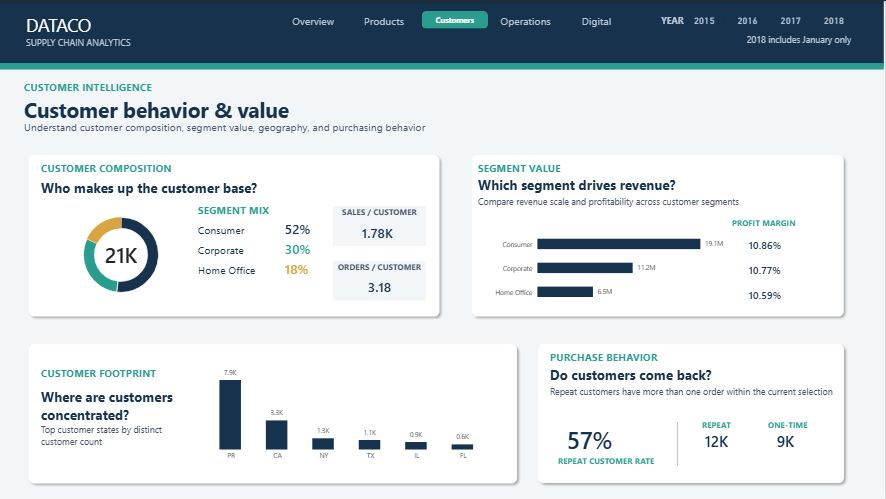

What the dashboard file says about the page in this screenshot:
{"tool":"powerbi","page":{"name":"Customers","canvas":[1600,900],"ordinal":2},"visuals":[{"type":"shape","box":[0,0,1599.4,117.5],"z":0},{"type":"shape","box":[0,112,1599.4,12],"z":1000},{"type":"textbox","box":[48,22,500,65],"z":2000},{"type":"pageNavigator","box":[507.8,18,632.5,32.5],"z":3000},{"type":"textbox","box":[1195,25,45,30],"z":4000},{"type":"advancedSlicerVisual","fields":{"Values":["Dates.Year"]},"box":[1240,18,305,36],"z":5000},{"type":"textbox","box":[1330,60,210,21],"z":6000},{"type":"textbox","box":[45,142,340,28],"z":7000},{"type":"textbox","box":[45,172,700,49],"z":8000},{"type":"textbox","box":[45,215,850,30],"z":9000},{"type":"shape","box":[45,270,760,310],"z":10000},{"type":"textbox","box":[75,290,260,28],"z":11000},{"type":"textbox","box":[75.9,322,520,34.3],"z":12000},{"type":"donutChart","fields":{"Category":["Customers.Customer Segment"],"Y":["_Measures.Customers"]},"box":[70,360,300,200],"z":13000},{"type":"textbox","box":[360,365,170,25],"z":14000},{"type":"textbox","box":[360,402,125,25],"z":15000},{"type":"cardVisual","fields":{"Data":["_Measures.Customer Share"]},"box":[500,398,80,28],"z":16000},{"type":"textbox","box":[360,438,125,25],"z":17000},{"type":"cardVisual","fields":{"Data":["_Measures.Customer Share"]},"box":[500,434,80,28],"z":18000},{"type":"textbox","box":[360,474,125,25],"z":19000},{"type":"cardVisual","fields":{"Data":["_Measures.Customer Share"]},"box":[500,470,79,28],"z":20000},{"type":"textbox","box":[603.6,370.5,168,72.3],"z":21000},{"type":"cardVisual","fields":{"Data":["_Measures.Sales per Customer"]},"box":[640,404,94,28.9],"z":22000},{"type":"textbox","box":[603.6,469.9,168.1,72.3],"z":23000},{"type":"cardVisual","fields":{"Data":["_Measures.Orders per Customer"]},"box":[650,501,77.7,32.5],"z":24000},{"type":"shape","box":[845,270,690,310],"z":25000},{"type":"textbox","box":[865,290,170,25],"z":26000},{"type":"textbox","box":[865.7,316.3,374.1,34.3],"z":27000},{"type":"textbox","box":[865,352,480,23.5],"z":28000},{"type":"clusteredBarChart","fields":{"Category":["Customers.Customer Segment"],"Y":["_Measures.Total Sales"]},"box":[875,390.2,449.8,180.7],"z":29000},{"type":"textbox","box":[1325,390,130,21],"z":30000},{"type":"cardVisual","fields":{"Data":["_Measures.Profit Margin"]},"box":[1340,425,95,30],"z":31000},{"type":"cardVisual","fields":{"Data":["_Measures.Profit Margin"]},"box":[1340,470,95,30],"z":32000},{"type":"cardVisual","fields":{"Data":["_Measures.Profit Margin"]},"box":[1340,515,95,30],"z":33000},{"type":"shape","box":[45,610,900,270],"z":34000},{"type":"shape","box":[965.1,610.8,571.1,269.3],"z":35000},{"type":"textbox","box":[75,660,250,25],"z":36000},{"type":"textbox","box":[75,700,250,65],"z":37000},{"type":"textbox","box":[75,765,250,55],"z":38000},{"type":"clusteredColumnChart","fields":{"Category":["Customers.Customer State"],"Y":["_Measures.Customers"]},"box":[349.2,638.8,560.7,213.6],"z":39000},{"type":"textbox","box":[995,630,240,25],"z":40000},{"type":"textbox","box":[995,660,330,32],"z":41000},{"type":"textbox","box":[995.8,695.8,522.3,41.6],"z":42000},{"type":"cardVisual","fields":{"Data":["_Measures.Repeat Customer Rate"]},"box":[1010,755,180,75],"z":43000},{"type":"textbox","box":[1010,820,200,25],"z":44000},{"type":"textbox","box":[1270,755,80,21],"z":45000},{"type":"cardVisual","fields":{"Data":["_Measures.Repeat Customers"]},"box":[1260,777,140,36],"z":46000},{"type":"textbox","box":[1390,755,150,21],"z":47000},{"type":"cardVisual","fields":{"Data":["_Measures.One-Time Customers"]},"box":[1390,777.1,100,36],"z":48000},{"type":"shape","box":[1220,760,12.7,80],"z":49000}]}

Visuals, with their boxes in screenshot pixels (x1, y1, x2, y2), scaled from the page's 1600x900 canvas onto the 886x499 screenshot:
shape: 0 0 885 65
shape: 0 62 885 69
textbox: 27 12 303 48
pageNavigator: 281 10 631 28
textbox: 662 14 687 30
advancedSlicerVisual - Dates.Year: 687 10 856 30
textbox: 736 33 853 45
textbox: 25 79 213 94
textbox: 25 95 413 123
textbox: 25 119 496 136
shape: 25 150 446 322
textbox: 42 161 186 176
textbox: 42 179 330 198
donutChart - Customers.Customer Segment x _Measures.Customers: 39 200 205 310
textbox: 199 202 293 216
textbox: 199 223 269 237
cardVisual - _Measures.Customer Share: 277 221 321 236
textbox: 199 243 269 257
cardVisual - _Measures.Customer Share: 277 241 321 256
textbox: 199 263 269 277
cardVisual - _Measures.Customer Share: 277 261 321 276
textbox: 334 205 427 246
cardVisual - _Measures.Sales per Customer: 354 224 406 240
textbox: 334 261 427 301
cardVisual - _Measures.Orders per Customer: 360 278 403 296
shape: 468 150 850 322
textbox: 479 161 573 175
textbox: 479 175 687 194
textbox: 479 195 745 208
clusteredBarChart - Customers.Customer Segment x _Measures.Total Sales: 485 216 734 317
textbox: 734 216 806 228
cardVisual - _Measures.Profit Margin: 742 236 795 252
cardVisual - _Measures.Profit Margin: 742 261 795 277
cardVisual - _Measures.Profit Margin: 742 286 795 302
shape: 25 338 523 488
shape: 534 339 851 488
textbox: 42 366 180 380
textbox: 42 388 180 424
textbox: 42 424 180 455
clusteredColumnChart - Customers.Customer State x _Measures.Customers: 193 354 504 473
textbox: 551 349 684 363
textbox: 551 366 734 384
textbox: 551 386 841 409
cardVisual - _Measures.Repeat Customer Rate: 559 419 659 460
textbox: 559 455 670 469
textbox: 703 419 748 430
cardVisual - _Measures.Repeat Customers: 698 431 775 451
textbox: 770 419 853 430
cardVisual - _Measures.One-Time Customers: 770 431 825 451
shape: 676 421 683 466
